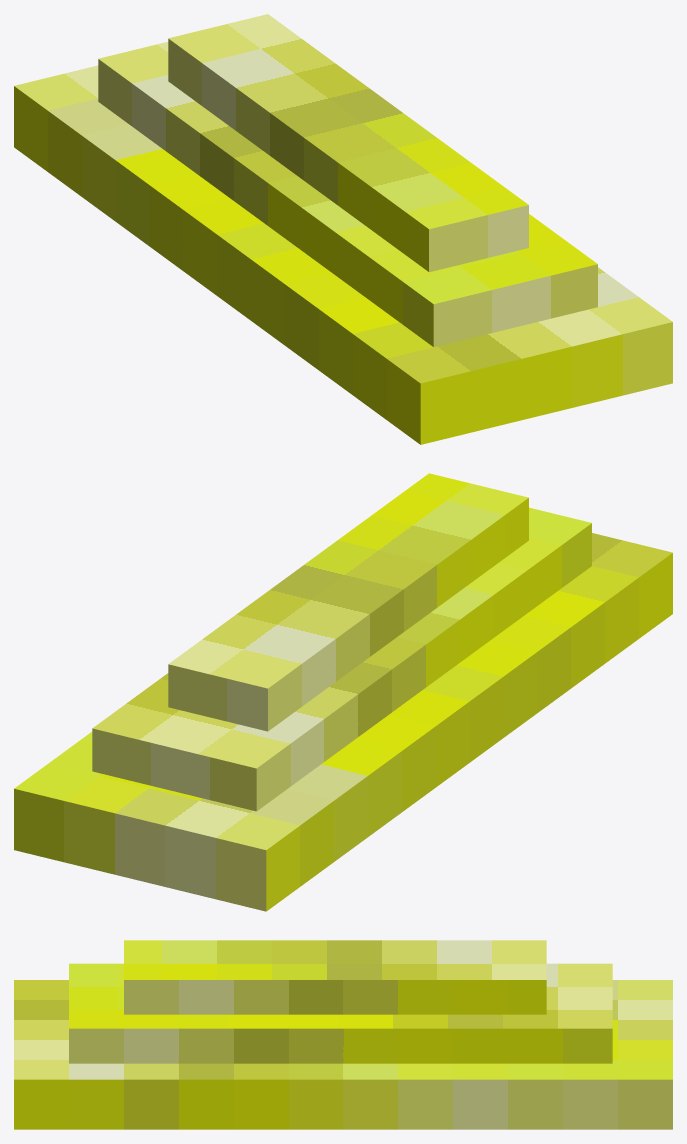
File: Gold.obj
3 renders of one model, top to bottom at view 1: azimuth 30°, elevation 25°; view 2: azimuth 150°, elevation 25°; view 3: azimuth 270°, elevation 25°, orthographic. The views are drawn at different scales.
Visible parts, largest first — view 1: cube; view 2: cube; view 3: cube.
Boxes of the visible parts, box(x1,y1,x2,y2) form: cube: box(14, 14, 672, 444); cube: box(14, 473, 672, 911); cube: box(14, 940, 672, 1129).
Size of the model in its own units: 0.2687 by 0.15 by 0.75.
